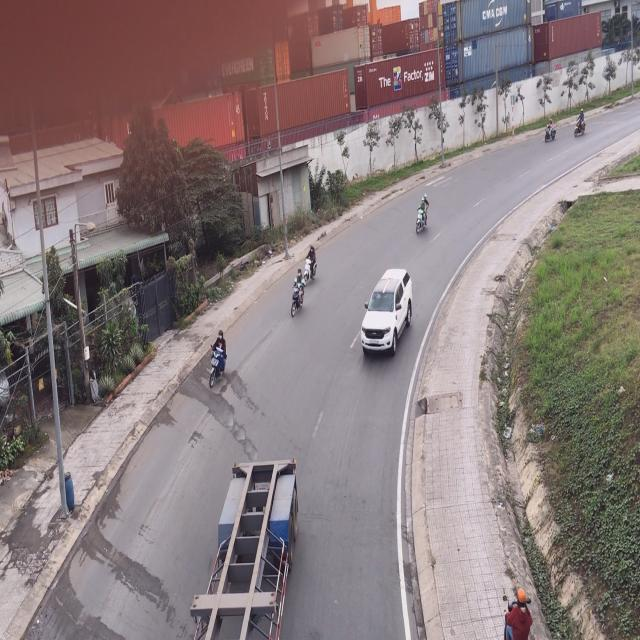car: (358, 269, 410, 361)
motorbike: (500, 584, 533, 638), (207, 329, 229, 391), (289, 268, 305, 320), (414, 193, 430, 236), (305, 243, 319, 287), (542, 108, 555, 144), (574, 105, 585, 137)
truck: (189, 456, 302, 640)
